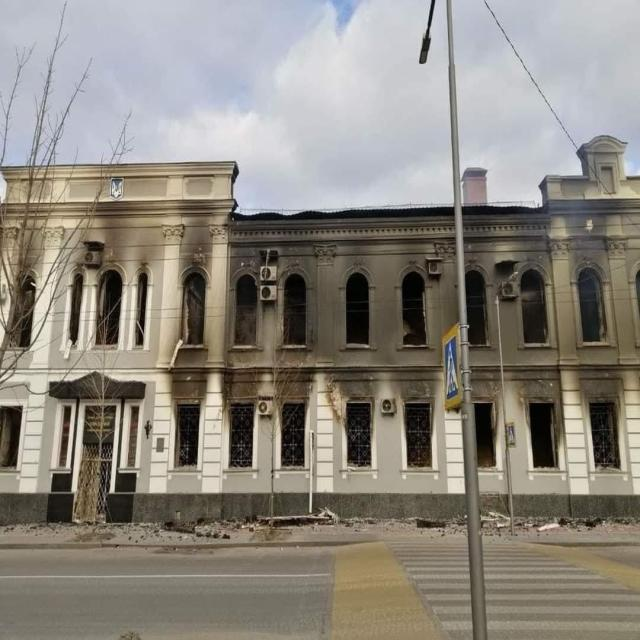broken_window: (519, 266, 550, 347), (577, 264, 608, 344), (588, 397, 620, 471), (527, 398, 559, 470), (94, 267, 122, 348), (400, 268, 428, 348), (464, 265, 490, 347), (404, 399, 433, 469), (180, 269, 206, 347), (344, 270, 370, 348), (281, 271, 307, 348), (232, 271, 258, 348), (345, 399, 373, 469), (280, 400, 306, 468), (174, 400, 200, 468), (228, 401, 254, 468), (473, 400, 496, 468), (132, 269, 149, 349)
building: (0, 133, 639, 527)
